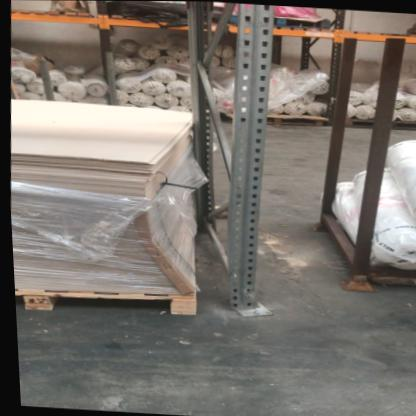vertical_damage: (218, 283, 274, 321)
